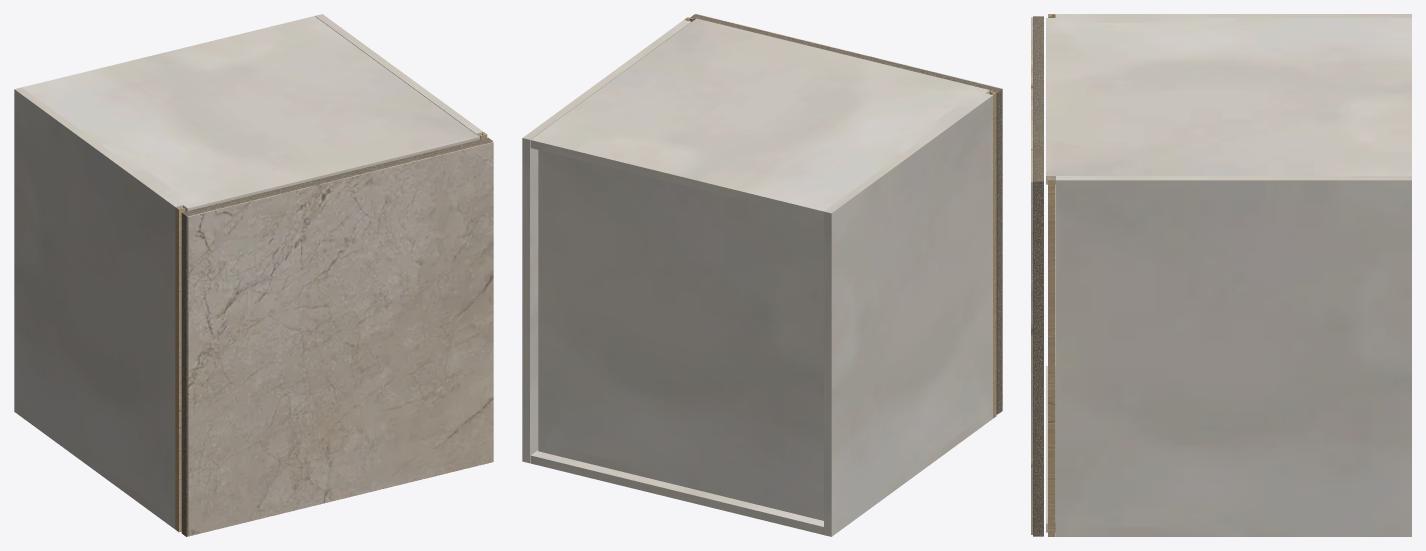
Rendered from WALL LOFT CABINET  1 SHELF (H600XW600XD560)WLC1SHS_LH.glb.
The picture shows the model from 3 angles, left to right: view 1: azimuth 30°, elevation 25°; view 2: azimuth 150°, elevation 25°; view 3: azimuth 270°, elevation 25°; orthographic projection. The views are drawn at different scales.
Size of what is drawn, in the model's own units: 0.6 by 0.6 by 0.5809.
Materials: 6 (4 with a texture image).
